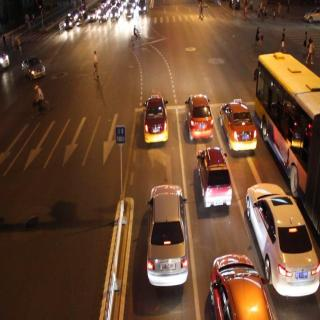BigCar: (253, 52, 320, 178)
Car: (247, 182, 320, 296), (147, 186, 191, 285), (207, 250, 269, 320), (196, 148, 233, 211), (220, 97, 257, 151), (140, 91, 170, 142), (185, 96, 214, 139), (22, 57, 45, 79), (62, 12, 74, 30), (98, 5, 109, 23), (86, 9, 97, 21), (125, 5, 134, 19), (110, 8, 120, 20)
